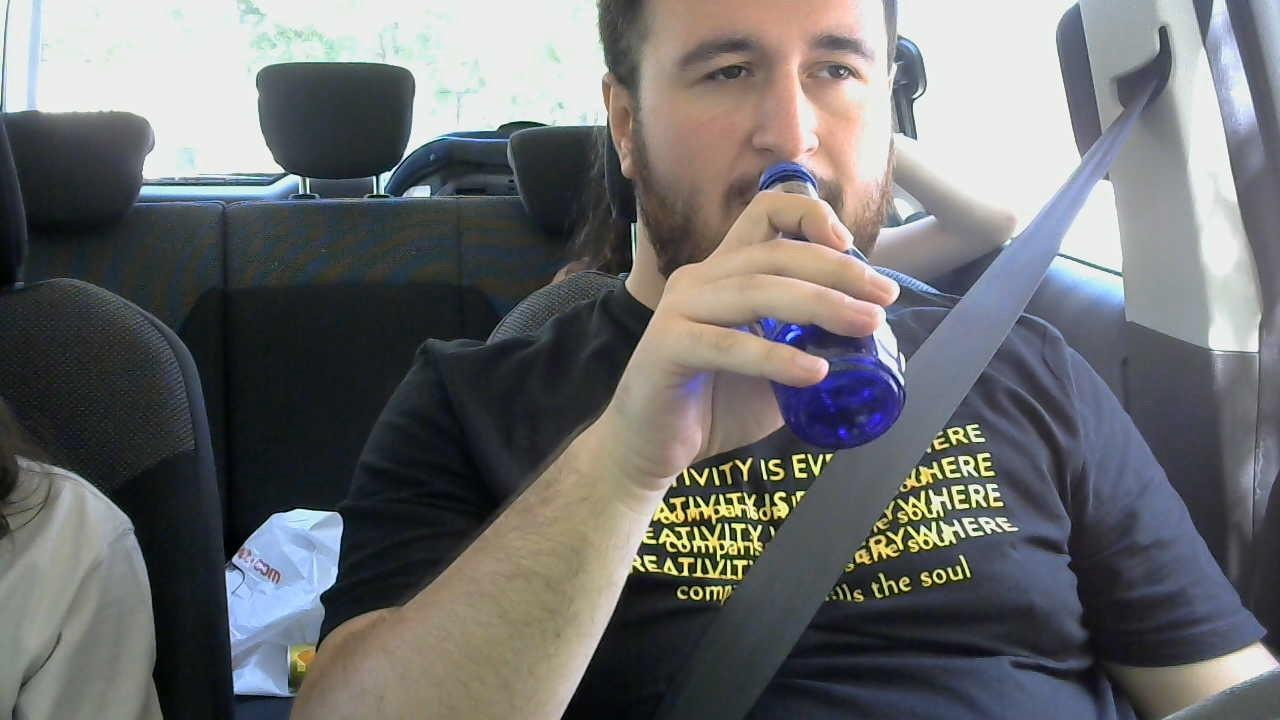Drinking: (599, 0, 905, 448)
